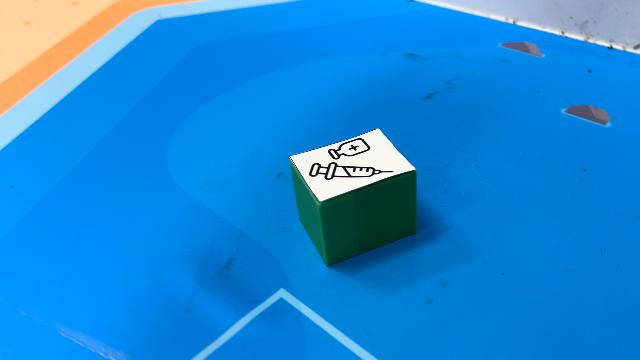syringe: (291, 129, 419, 267)
